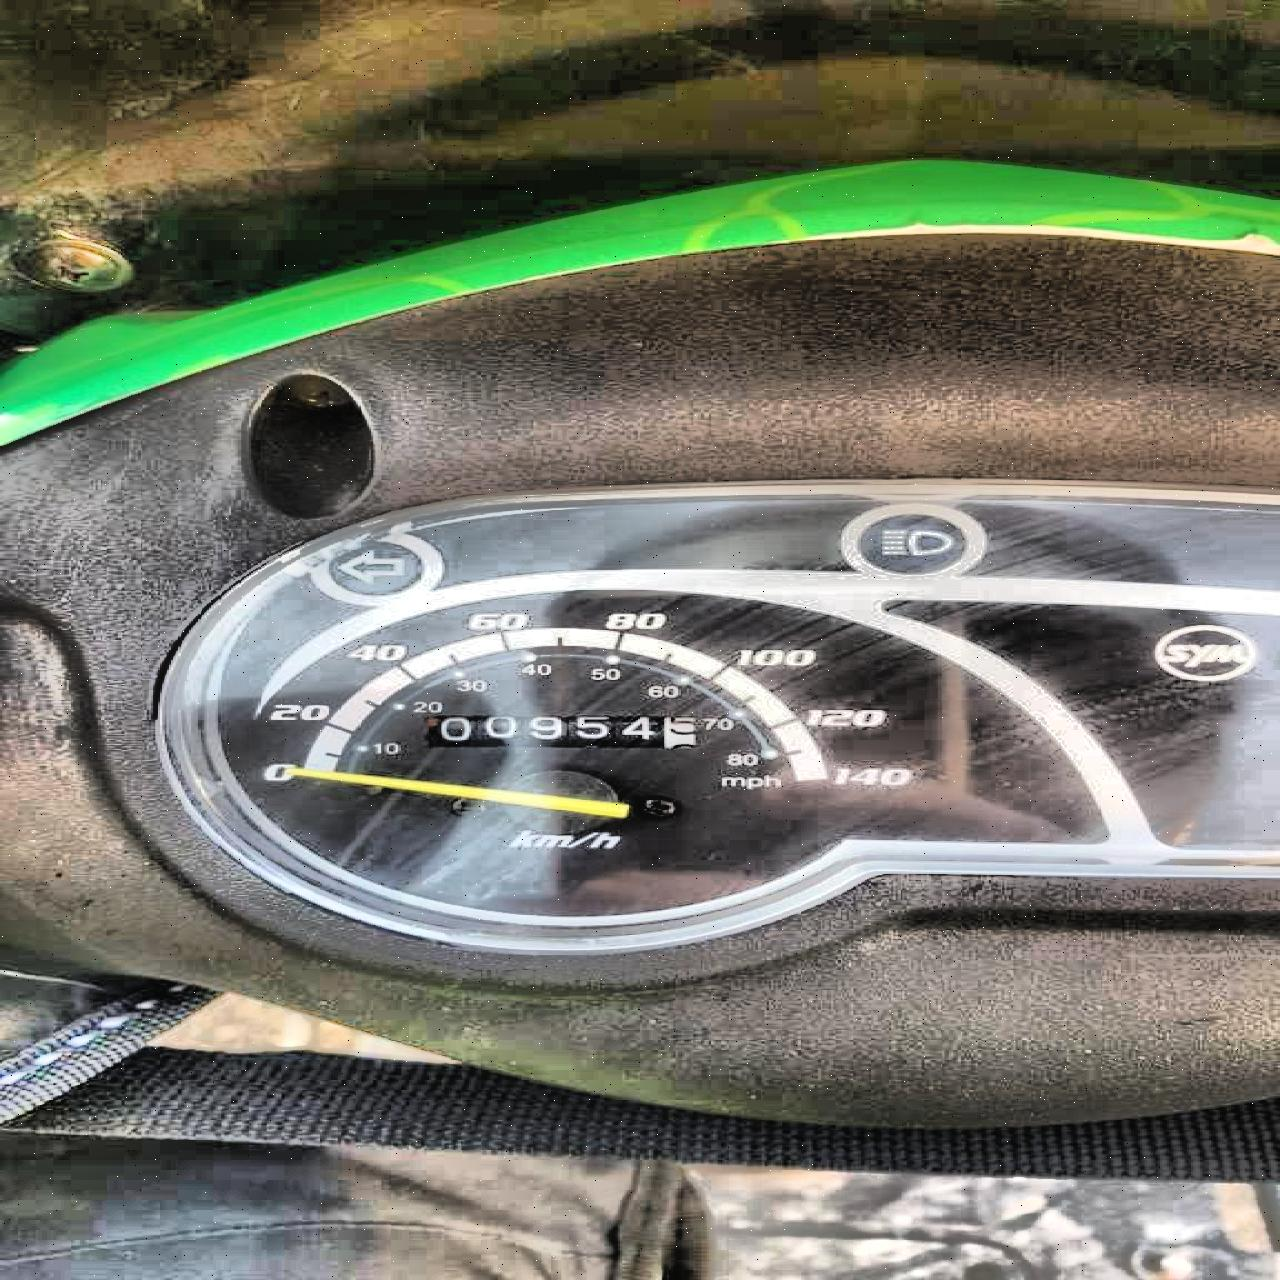0: (436, 715, 471, 741), (481, 713, 516, 738)
4: (618, 715, 655, 738)
5: (571, 714, 610, 738), (667, 714, 697, 735)
9: (524, 714, 563, 740)
odometer: (416, 710, 702, 751)
